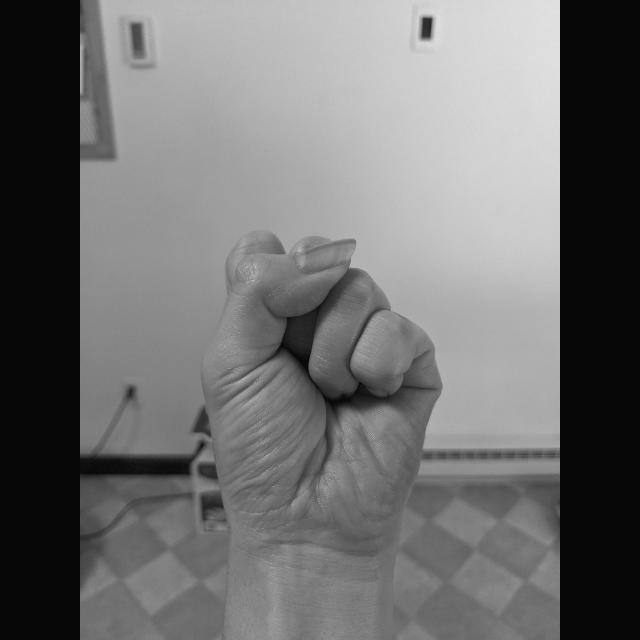S: (193, 223, 449, 564)
